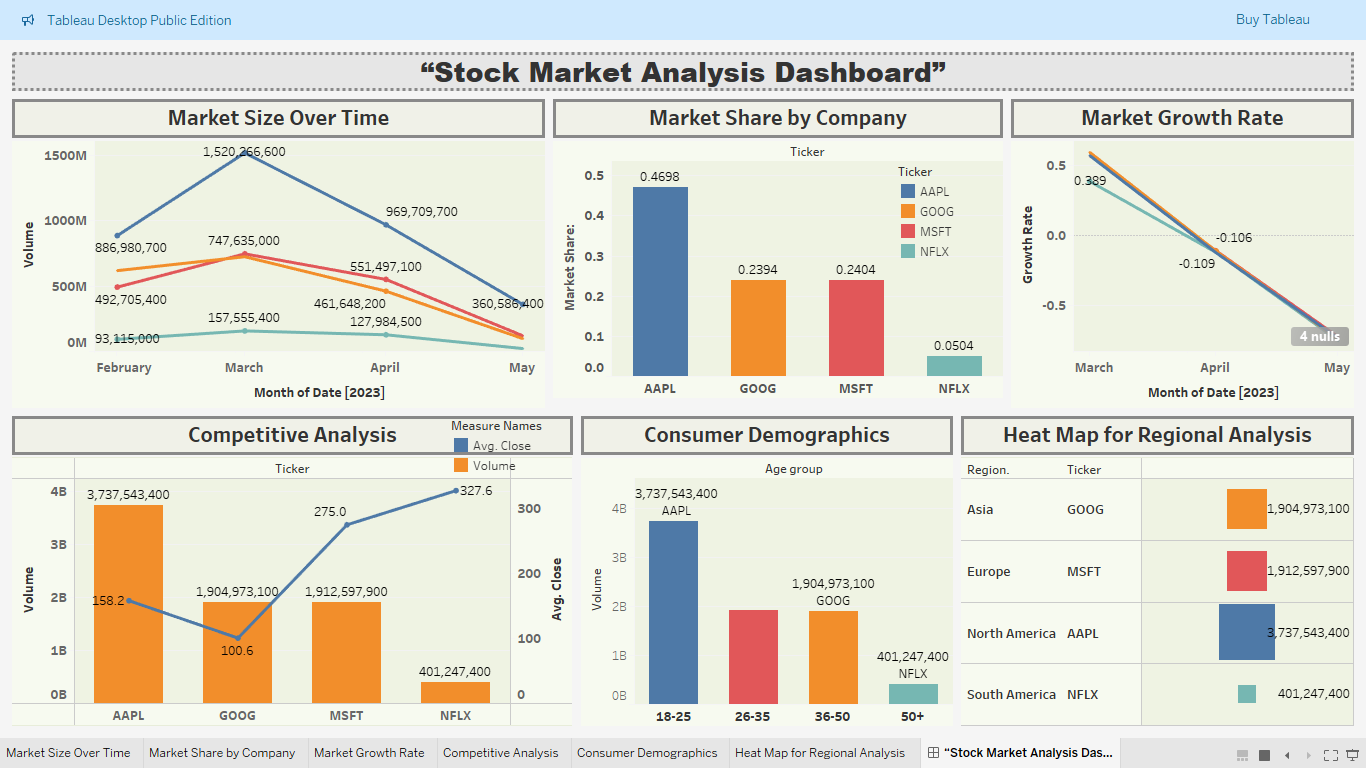

What the dashboard file says about the page in this screenshot:
{"tool":"tableau","page":{"name":"“Stock Market Analysis Dashboard”","canvas":[1000,1000],"units":"permille","ordinal":0},"visuals":[{"type":"title","box":[6.9,14.7,986.1,86.4]},{"type":"worksheet","title":"Market Size Over Time","mark":"Line","rows":["Volume"],"cols":["Date"],"box":[6.9,101.1,395.5,441.9]},{"type":"worksheet","title":"Market Share by Company","mark":"Bar","rows":["Calculation_468655880375410688"],"cols":["Ticker"],"box":[402.5,101.1,334.2,441.9]},{"type":"worksheet","title":"Market Growth Rate","mark":"Automatic","rows":["Calculation_468655880376008705"],"cols":["Date"],"box":[736.7,101.1,256.4,441.9]},{"type":"legend","title":"Market Size Over Time","param":"[federated.0h102bc1ipuwac18unn361br9zap].[none:Ticker:nk]","box":[657.1,176.5,83.1,180.2]},{"type":"legend","title":"Competitive Analysis","param":"[federated.0h102bc1ipuwac18unn361br9zap].[:Measure Names]","box":[329.9,540.4,97,106.6]},{"type":"worksheet","title":"Competitive Analysis","mark":"Automatic","rows":["Volume","Close"],"cols":["Ticker"],"box":[6.9,543,415.9,442.3]},{"type":"worksheet","title":"Consumer Demographics","mark":"Bar","rows":["Volume"],"cols":["Calculation_468655880381763586"],"box":[422.8,543,277.5,442.3]},{"type":"worksheet","title":"Heat Map for Regional Analysis","mark":"Automatic","rows":["Calculation_468655880382545923","Ticker"],"box":[700.3,543,292.8,442.3]}]}

Visuals, with their boxes on the dashboard's canvas, which has no fixed pixel size, in thousandths of its width and height (x1, y1, x2, y2). These are canvas units, not pixel positions in the 1366x768 screenshot, which may show the page scaled, cropped or inside an application window:
title: <box>7,15,993,101</box>
"Market Size Over Time" worksheet (Line marks): <box>7,101,402,543</box>
"Market Share by Company" worksheet (Bar marks): <box>402,101,737,543</box>
"Market Growth Rate" worksheet: <box>737,101,993,543</box>
"Market Size Over Time" legend: <box>657,176,740,357</box>
"Competitive Analysis" legend: <box>330,540,427,647</box>
"Competitive Analysis" worksheet: <box>7,543,423,985</box>
"Consumer Demographics" worksheet (Bar marks): <box>423,543,700,985</box>
"Heat Map for Regional Analysis" worksheet: <box>700,543,993,985</box>
